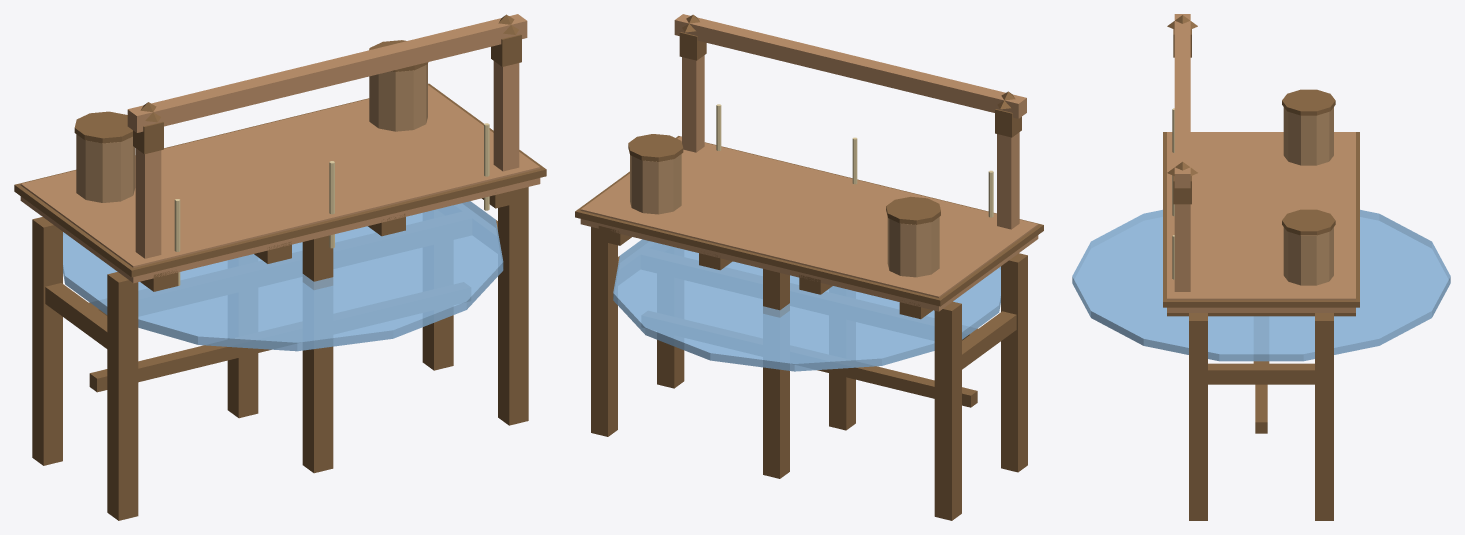
Rendered from pier.glb.
The picture shows the model from 3 angles, left to right: view 1: azimuth 30°, elevation 25°; view 2: azimuth 150°, elevation 25°; view 3: azimuth 270°, elevation 25°; orthographic projection. The views are drawn at different scales.
Visible parts, largest first — view 1: pier_root; view 2: pier_root; view 3: pier_root.
Boxes of the visible parts, bbox=[...] form: pier_root: bbox=[14, 14, 546, 520]; pier_root: bbox=[575, 14, 1043, 520]; pier_root: bbox=[1072, 14, 1450, 520].
Bounding box in the file's own units: 8 × 7.65 × 7.53.
